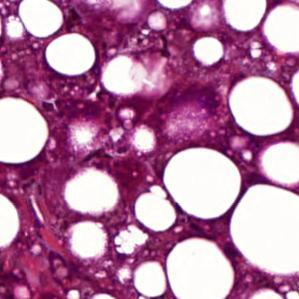steatosis: (165, 143, 245, 223), (44, 33, 101, 76)
